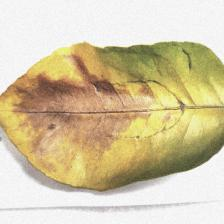canker: (10, 56, 196, 160)
